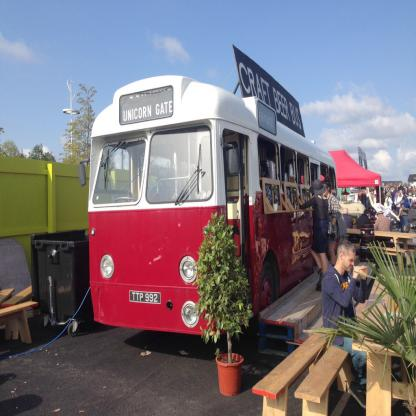Bus: (78, 76, 337, 338)
